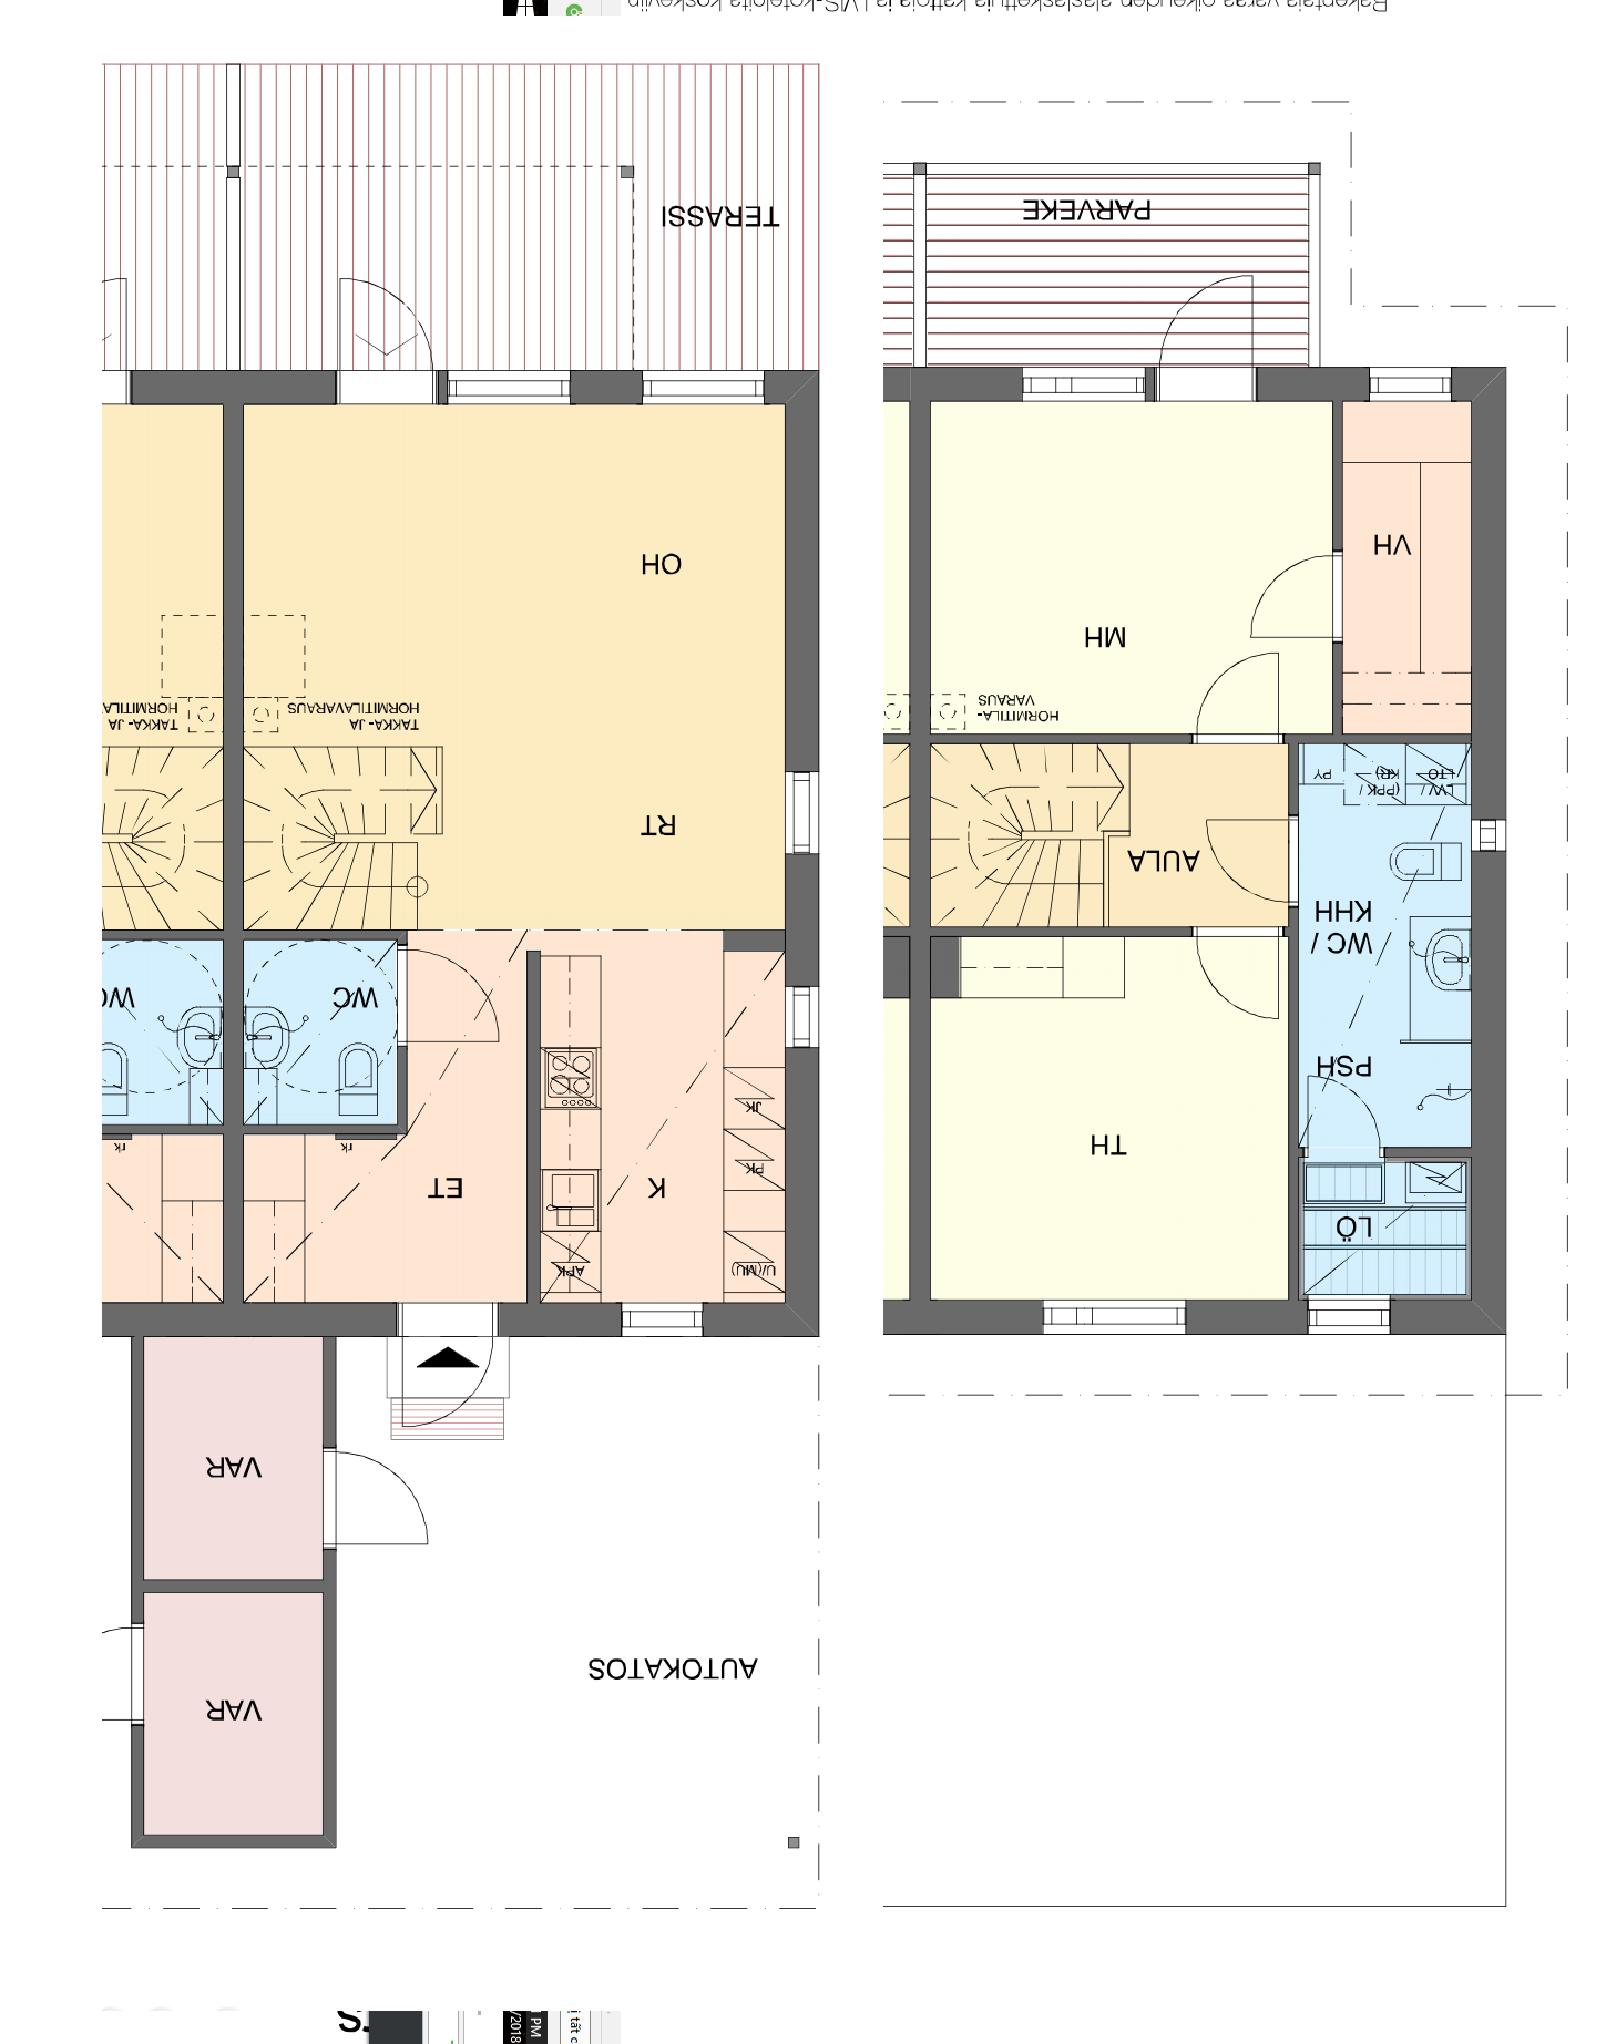door: (328, 257, 448, 401), (1155, 264, 1268, 400), (397, 1311, 506, 1445), (1180, 645, 1297, 757), (320, 1455, 436, 1561), (387, 952, 501, 1055), (1193, 931, 1297, 1030), (1246, 556, 1350, 642), (1195, 820, 1302, 899), (1311, 1073, 1382, 1165)
window: (1042, 1296, 1186, 1334), (635, 368, 763, 405), (1020, 358, 1146, 392), (1301, 1294, 1397, 1336), (450, 370, 571, 401), (1364, 368, 1453, 406), (637, 1304, 708, 1342)
zone: (242, 400, 785, 926), (108, 56, 811, 368), (921, 398, 1337, 725), (942, 936, 1286, 1296), (246, 937, 516, 1304), (538, 927, 781, 1302), (1306, 748, 1465, 1291), (883, 164, 1321, 357), (932, 738, 1291, 927), (143, 1591, 327, 1838), (139, 1336, 320, 1579), (1346, 397, 1468, 725), (237, 936, 393, 1123)
